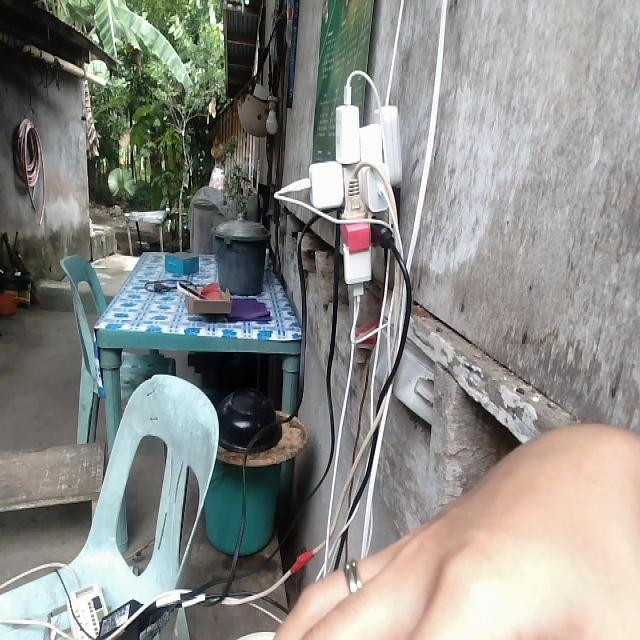-: (281, 69, 405, 300)
